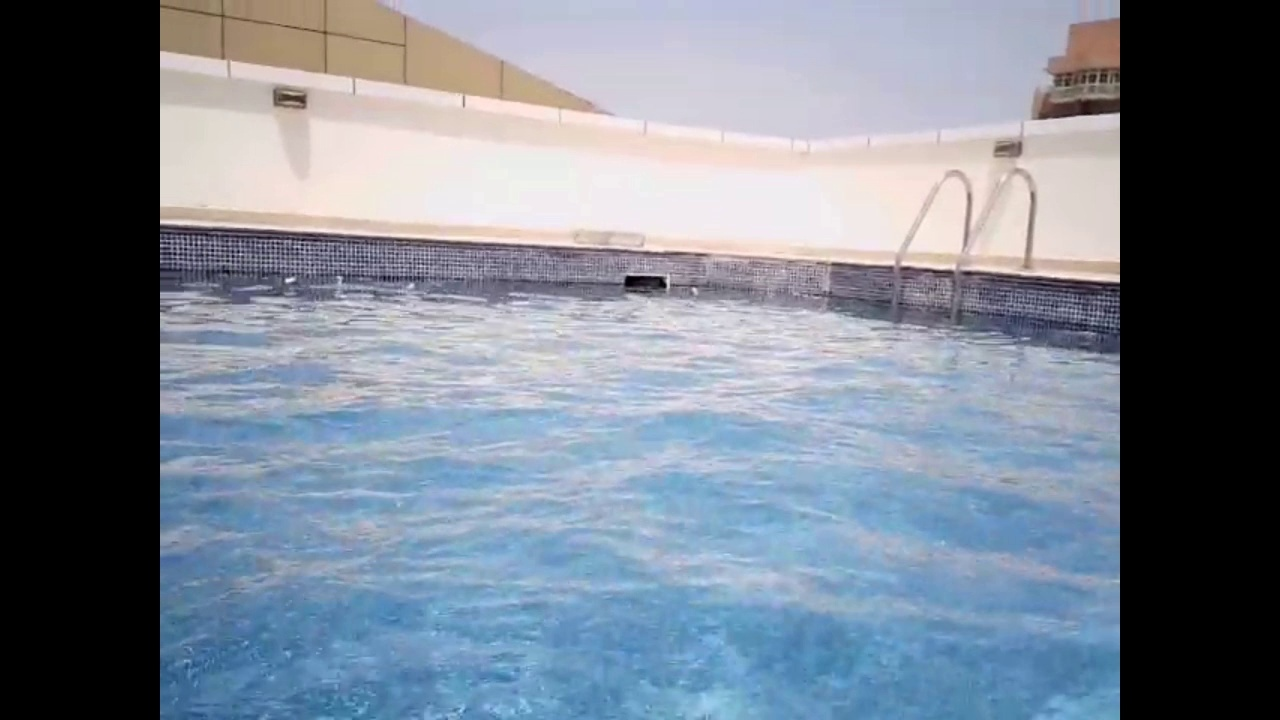debris: (280, 271, 299, 290), (683, 283, 702, 299), (333, 272, 346, 287), (402, 279, 418, 291)
